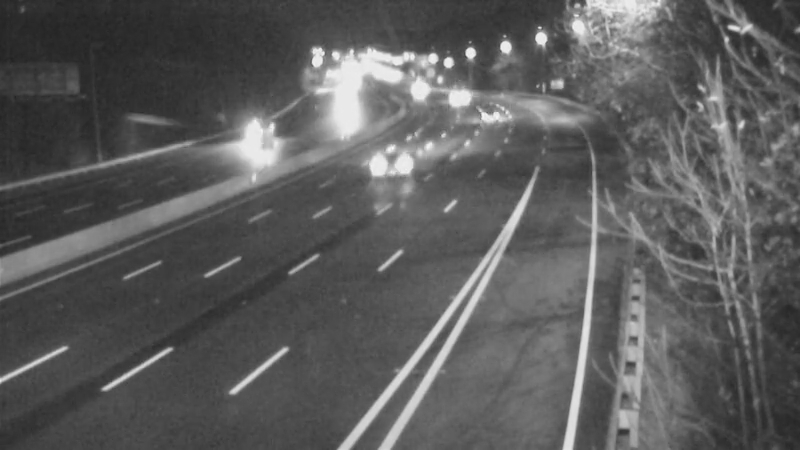vehicle: (363, 123, 443, 203), (427, 71, 477, 121), (464, 92, 514, 142), (248, 113, 298, 163)
